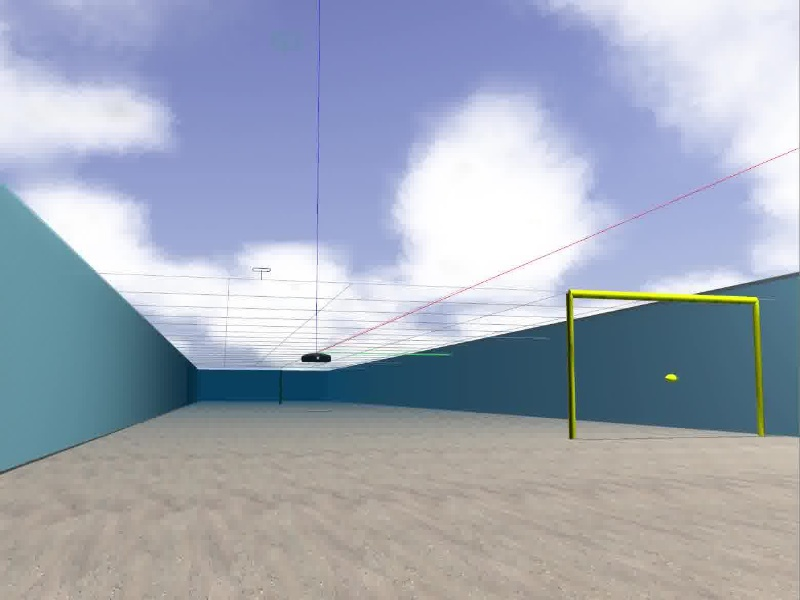gate: (564, 288, 768, 440)
